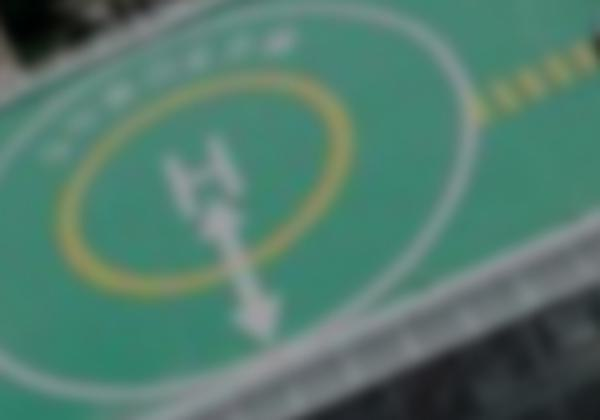Apron: (51, 67, 356, 297)
